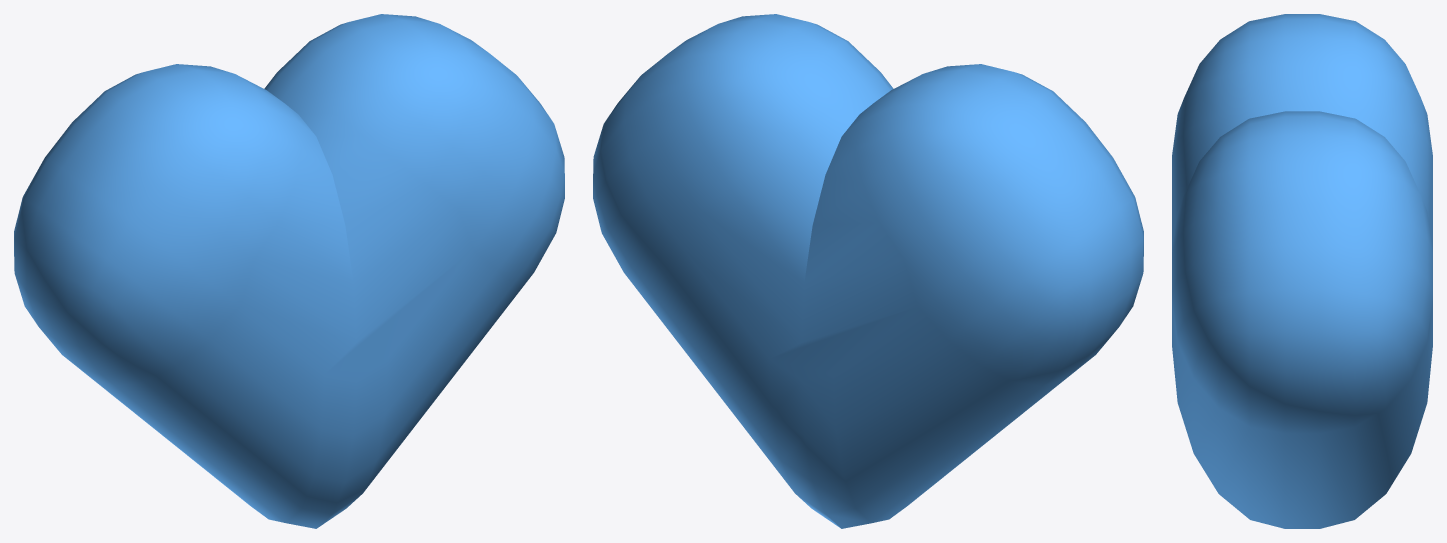
Rendered from heart_teamBlue-col.glb.
3 views of the same model, side by side, from view 1: azimuth 30°, elevation 25°; view 2: azimuth 150°, elevation 25°; view 3: azimuth 270°, elevation 25° (orthographic). The views are drawn at different scales.
Parts seen in each view (by area): view 1: heart_teamBlue-col; view 2: heart_teamBlue-col; view 3: heart_teamBlue-col.
Boxes of the visible parts, bbox=[...] form: heart_teamBlue-col: bbox=[14, 14, 564, 528]; heart_teamBlue-col: bbox=[593, 14, 1143, 528]; heart_teamBlue-col: bbox=[1172, 14, 1432, 528].
Bounding box in the file's own units: 1.08 × 0.939 × 0.4932.
